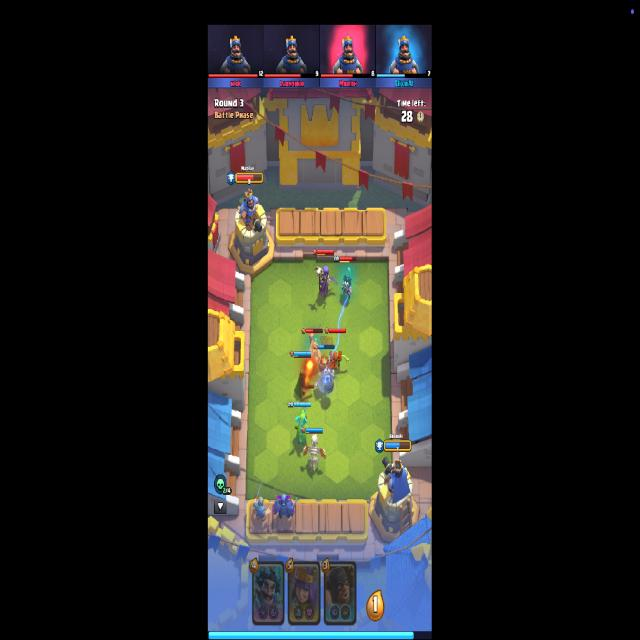baby_dragon: (294, 408, 312, 448)
bandit: (294, 368, 316, 403)
barbarian: (308, 335, 322, 369)
card_archer_queen: (287, 559, 320, 627)
card_e_wiz: (251, 560, 285, 625)
card_executioner: (322, 559, 356, 627)
e_wiz: (341, 274, 352, 298)
giant_skeleton: (318, 358, 336, 394)
goblin: (329, 351, 350, 374)
knight: (252, 478, 271, 523)
pekka: (273, 493, 297, 519)
skeleton_dragon: (302, 432, 328, 476)
witch: (316, 265, 338, 297)
